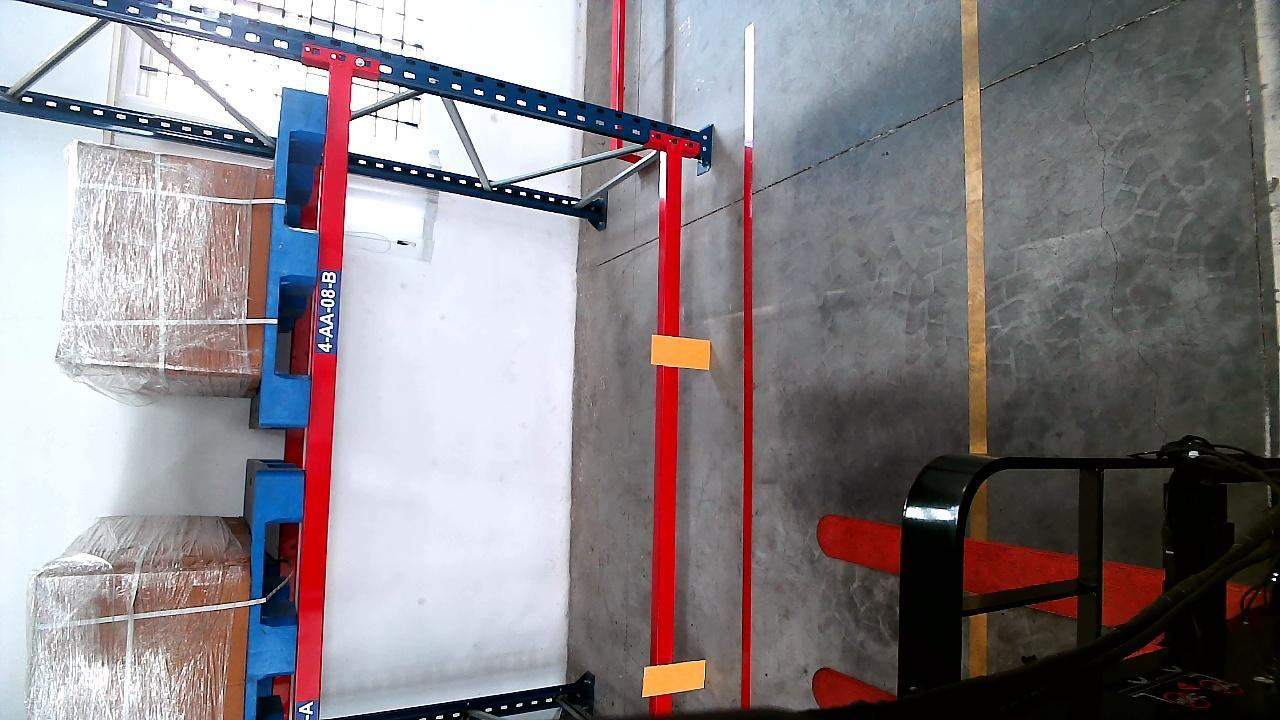red_line: (735, 143, 757, 706)
yellow_line: (963, 0, 991, 452)
